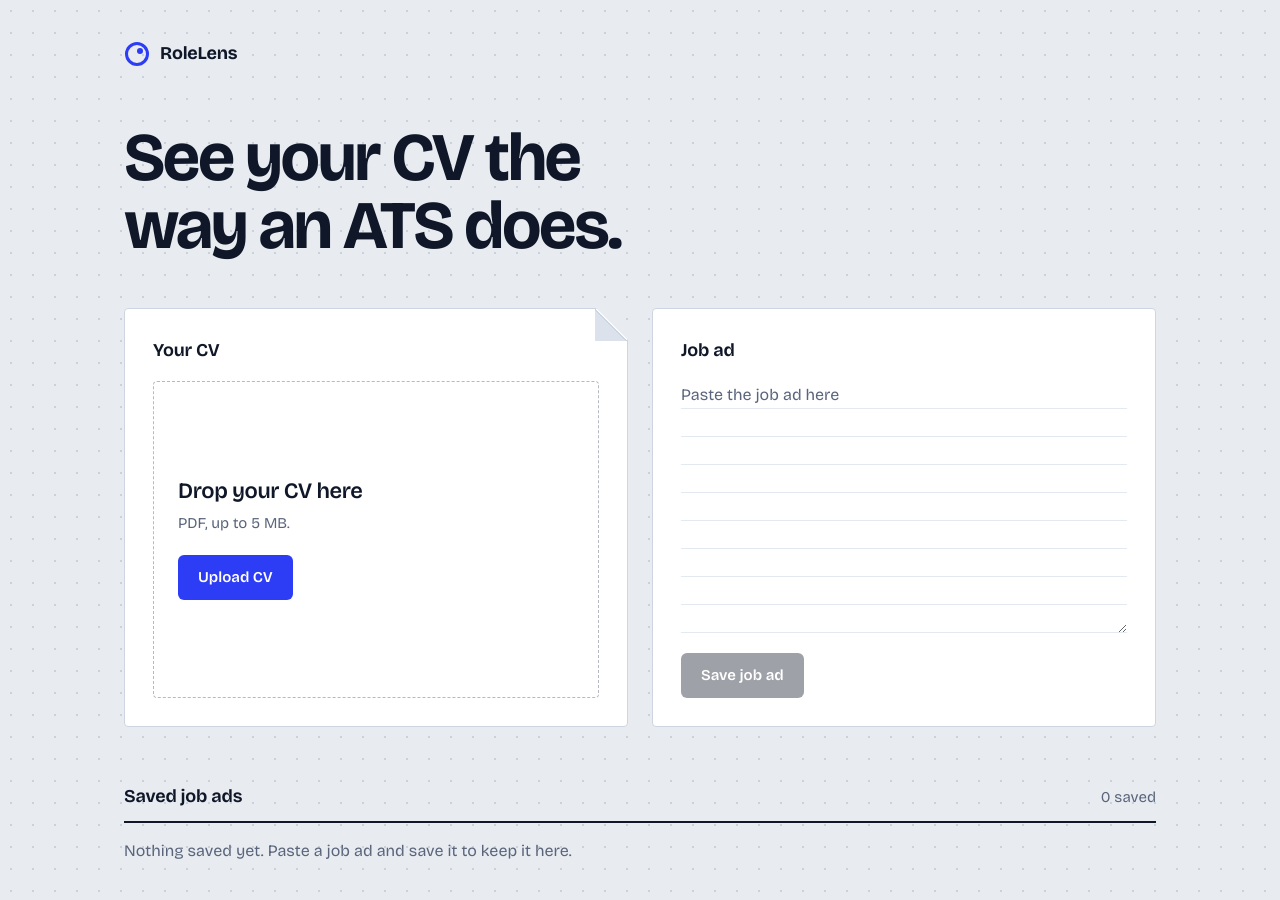
it: saving a job ad › shows a general message when saving fails for another reason
In the text box labelled "Job ad": (904, 507) [681,381,1127,633], type "Backend Engineer"
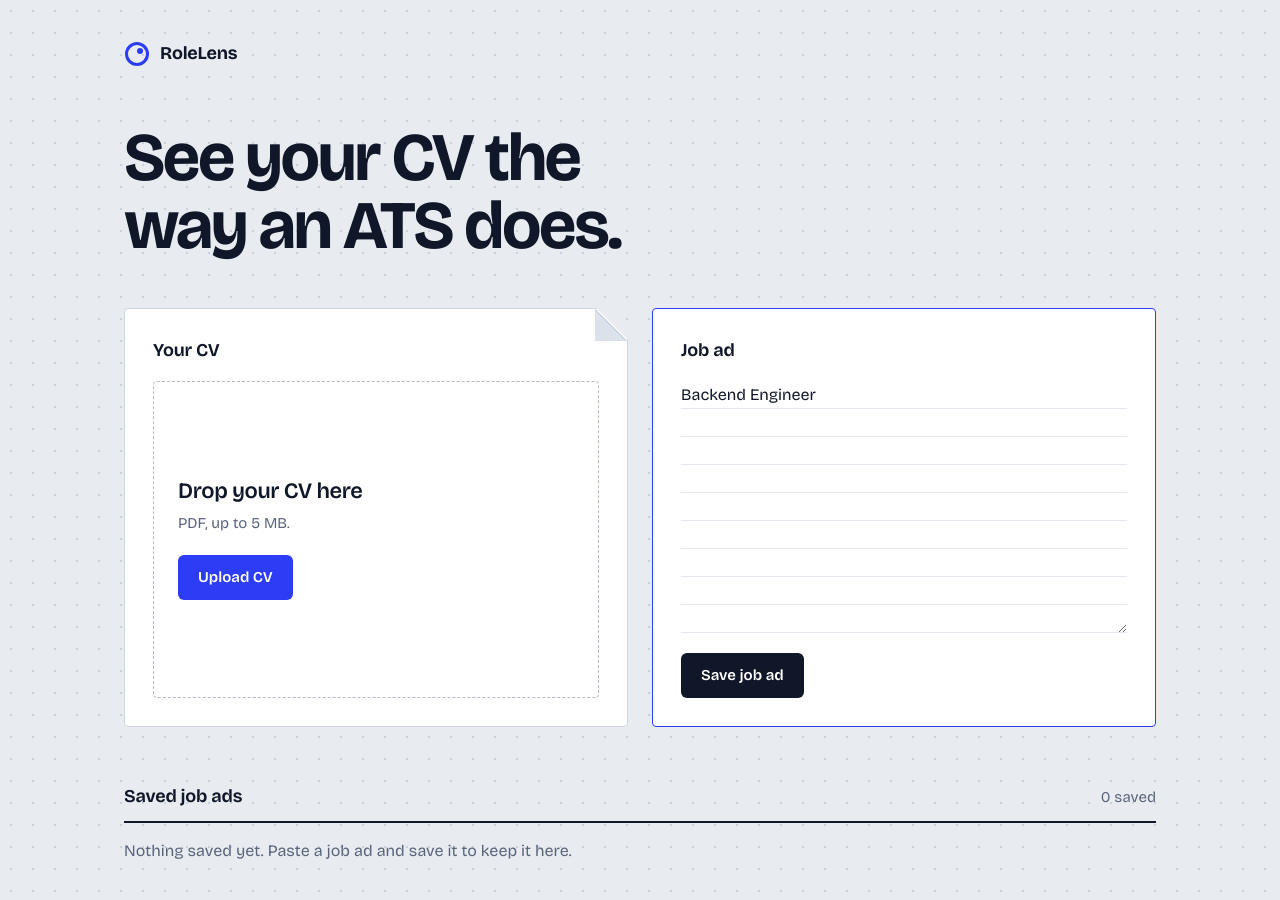
Click the button "Save job ad": (742, 675) [681,653,804,698]
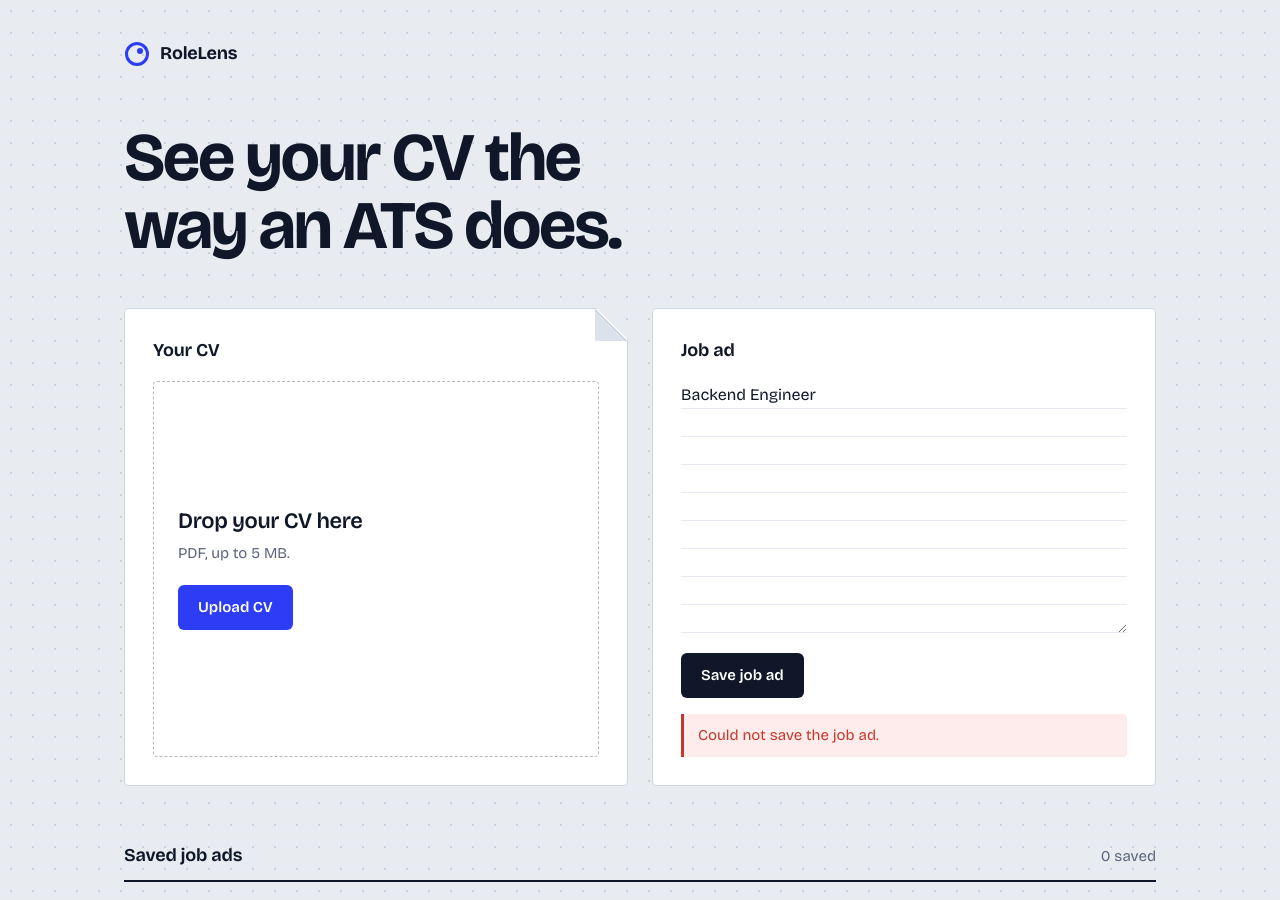
Check: the message reads "Could not save the job ad.", box [698,726,879,744]
